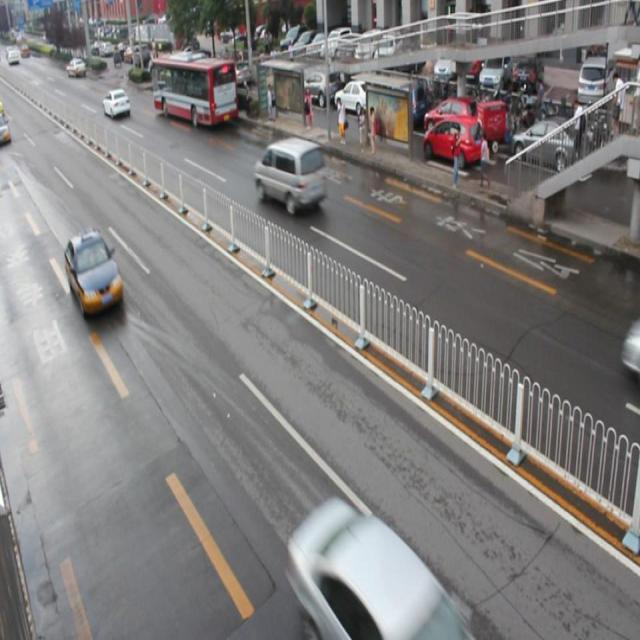car: (287, 499, 466, 640), (65, 225, 123, 317), (103, 88, 131, 120)
truck: (255, 136, 327, 212)
van: (152, 56, 238, 127)
